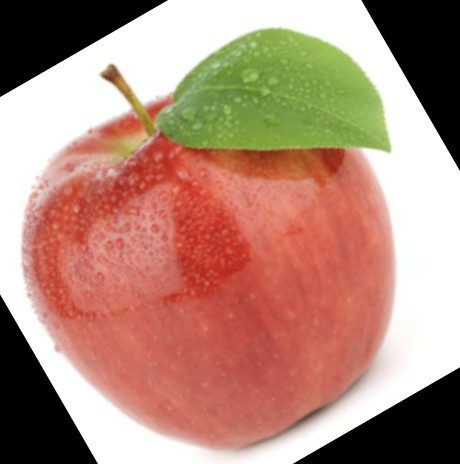fresh_apple: (23, 87, 405, 450)
